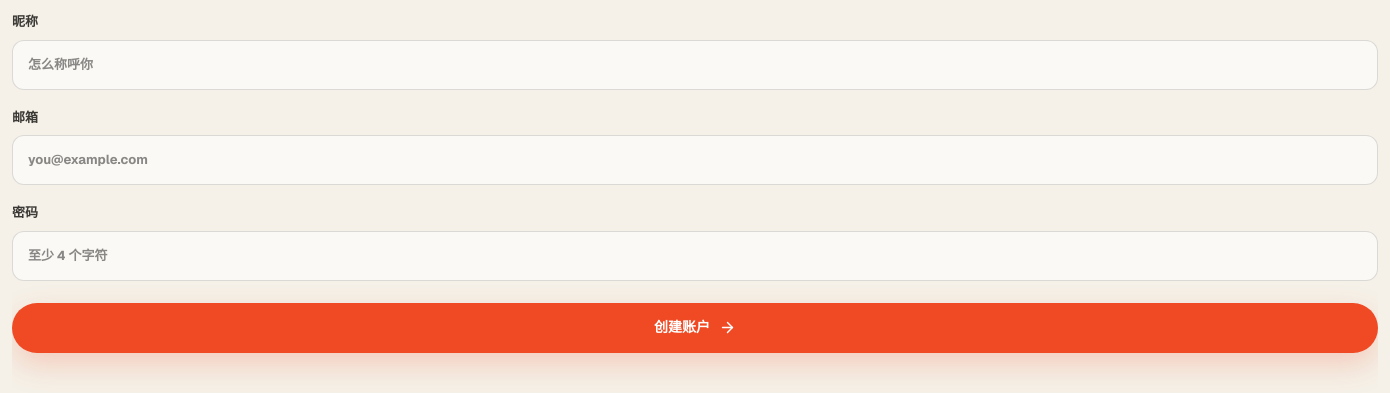
Test: RegistrationForm › shows that the account can log in immediately after registration
Type "Radar User" into the field labelled "昵称" at (695, 64), box [12,40,1378,90]
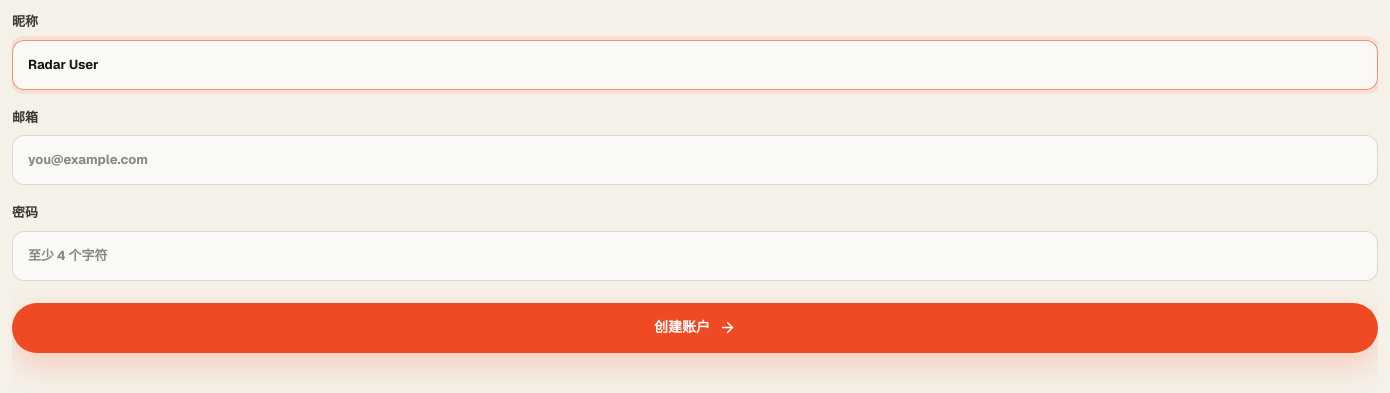
Type "user@example.com" into the field labelled "邮箱" at (695, 160), box [12,135,1378,185]
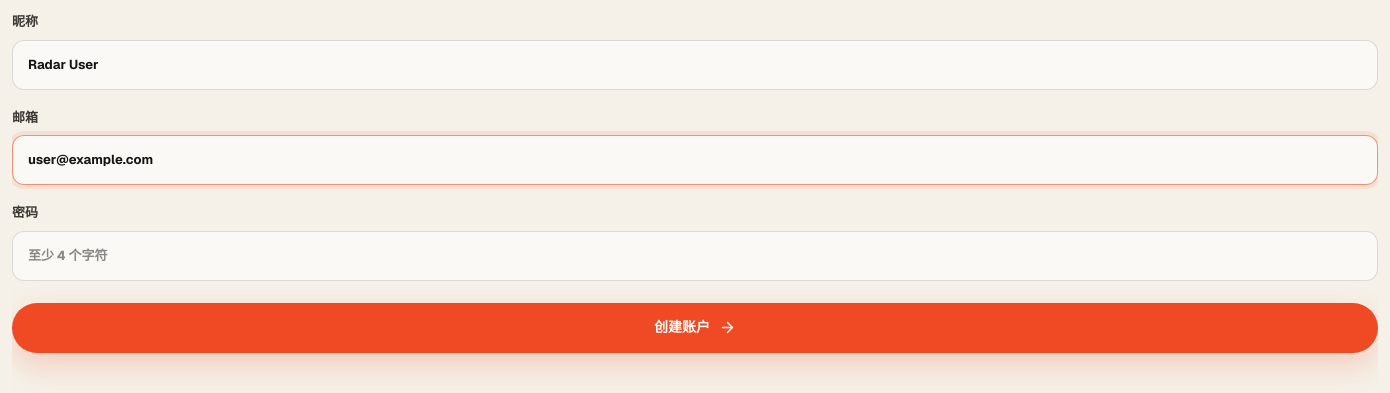
Type "1234" into the password field labelled "密码" at (695, 256), box [12,230,1378,280]
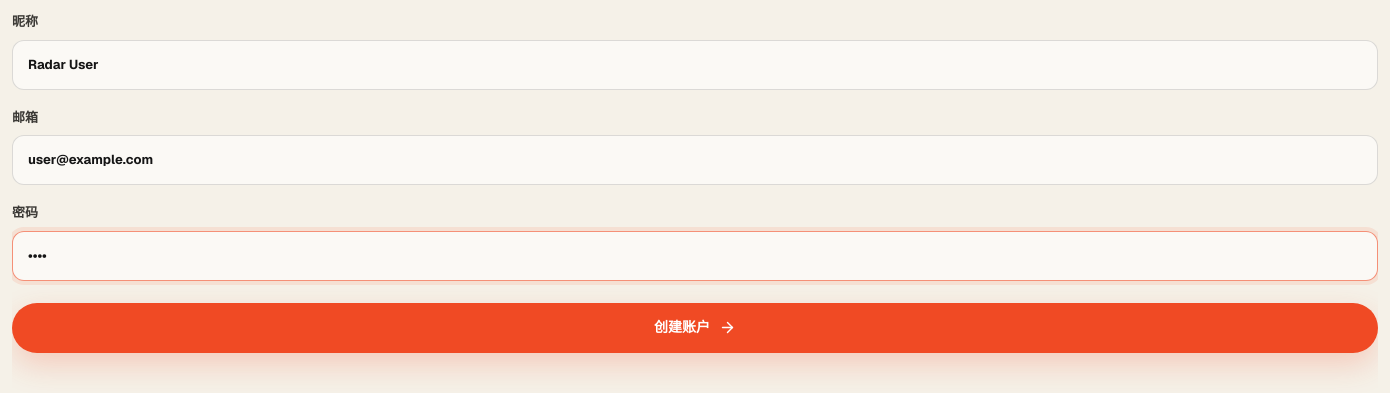
Click the button "创建账户" at (695, 328), box [12,302,1378,352]
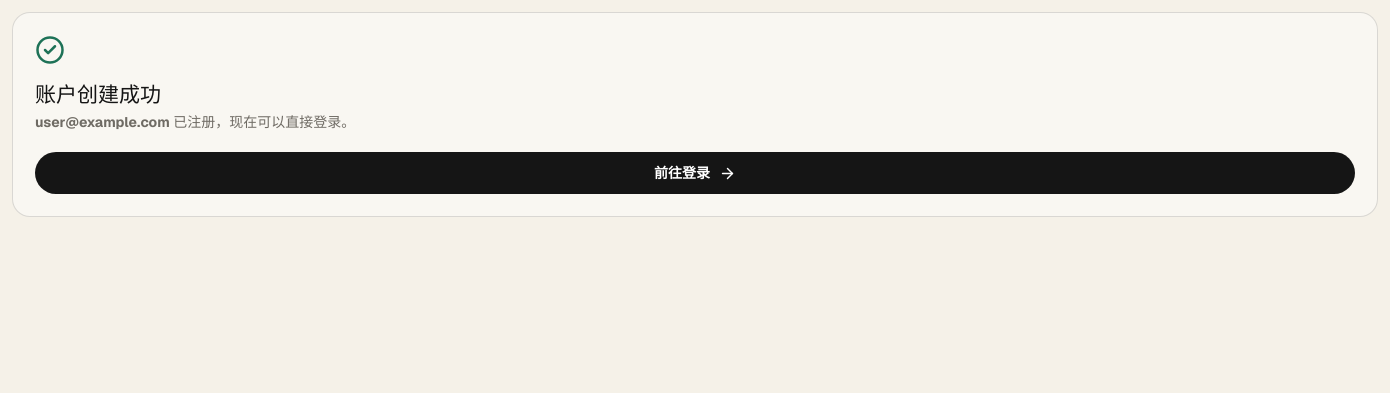
Result: the heading "账户创建成功" is shown at [35,81,161,108]
Result: the text "现在可以直接登录。" is shown at [170,112,355,130]
